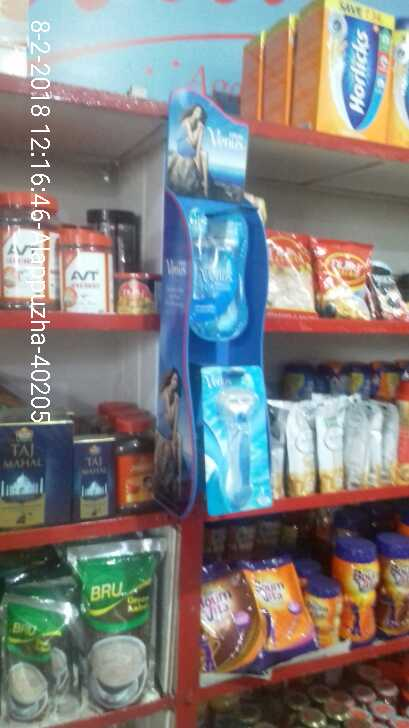venus: (191, 370, 277, 506), (183, 216, 249, 344)
